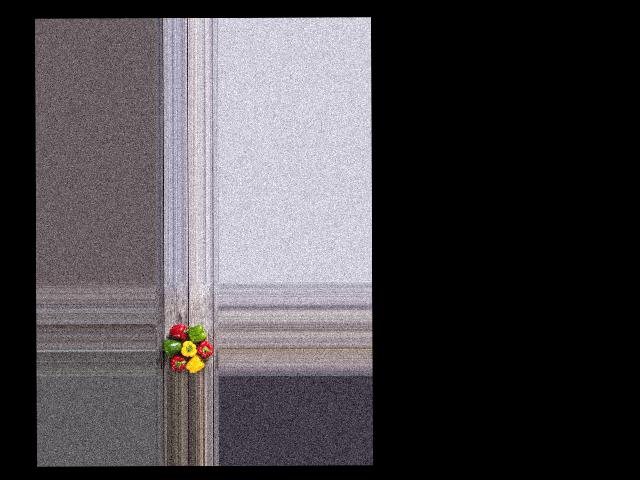bell_pepper: (170, 355, 189, 375)
